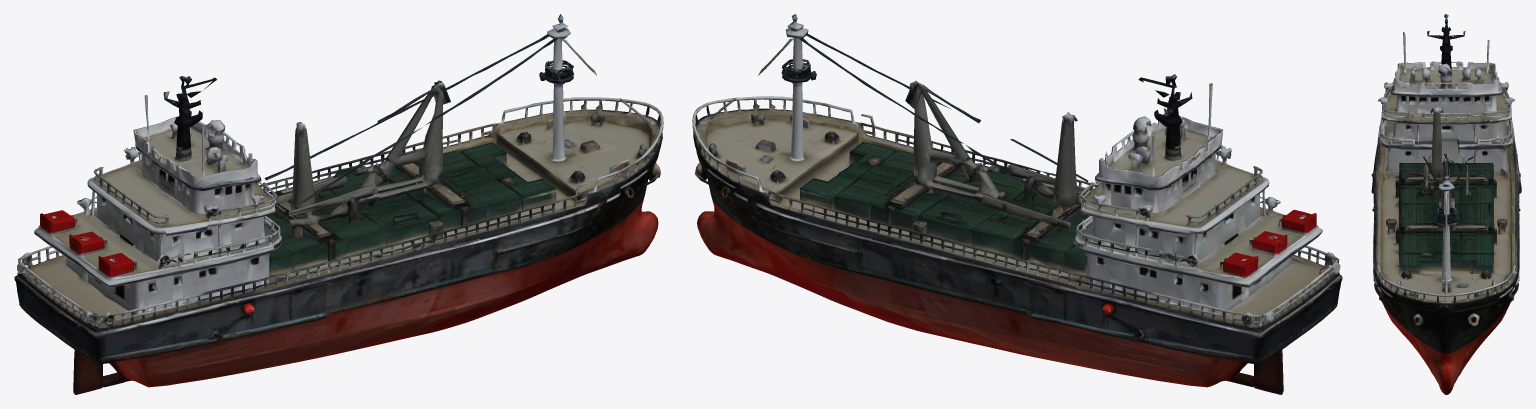
File: cargo_ship.glb
3 views of the same model, side by side, from view 1: azimuth 30°, elevation 25°; view 2: azimuth 150°, elevation 25°; view 3: azimuth 270°, elevation 25° (orthographic). The views are drawn at different scales.
Parts seen in each view (by area): view 1: tripo_node_6fe2ed87-ee8f-4b99-b884-9fb963f1173b; view 2: tripo_node_6fe2ed87-ee8f-4b99-b884-9fb963f1173b; view 3: tripo_node_6fe2ed87-ee8f-4b99-b884-9fb963f1173b.
Boxes of the visible parts, x1,y1,x2,y2 form: tripo_node_6fe2ed87-ee8f-4b99-b884-9fb963f1173b: [14, 14, 663, 394]; tripo_node_6fe2ed87-ee8f-4b99-b884-9fb963f1173b: [692, 14, 1342, 394]; tripo_node_6fe2ed87-ee8f-4b99-b884-9fb963f1173b: [1371, 14, 1521, 394].
Bounding box in the file's own units: 0.9781 × 0.4509 × 0.2829.
1 material, 1 textured.
